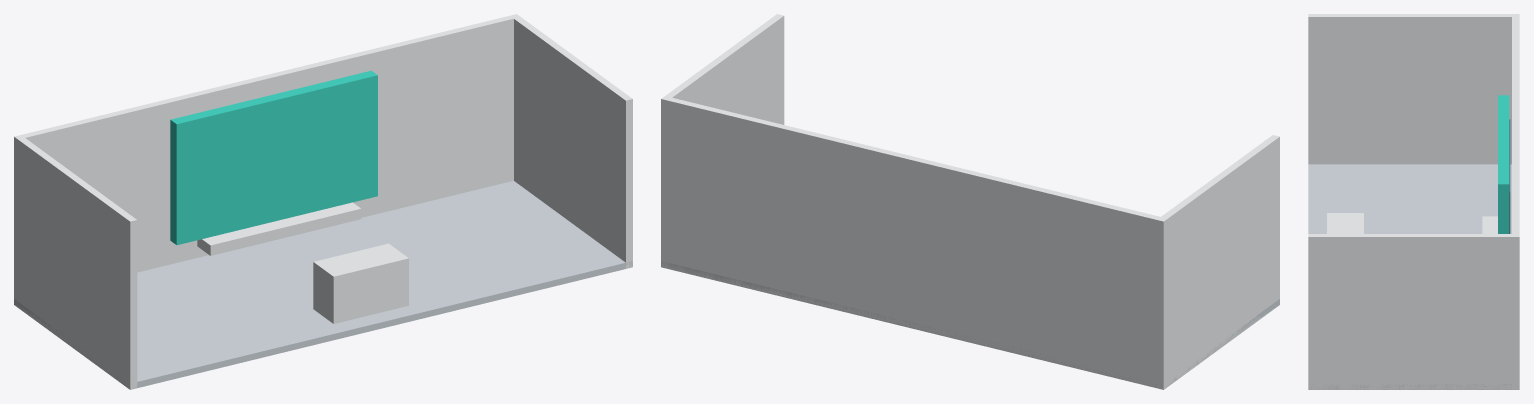
The picture shows the model from 3 angles, left to right: view 1: azimuth 30°, elevation 25°; view 2: azimuth 150°, elevation 25°; view 3: azimuth 270°, elevation 25°; orthographic projection. The views are drawn at different scales.
Visible parts, largest first — view 1: Exhibition Booth Concept; view 2: Exhibition Booth Concept; view 3: Exhibition Booth Concept.
Boxes of the visible parts, left/top/right/bottom form: Exhibition Booth Concept: left=14, top=14, right=632, bottom=389; Exhibition Booth Concept: left=661, top=14, right=1279, bottom=389; Exhibition Booth Concept: left=1308, top=14, right=1519, bottom=389.
Size of the model in its own units: 10 by 3.2 by 4.
